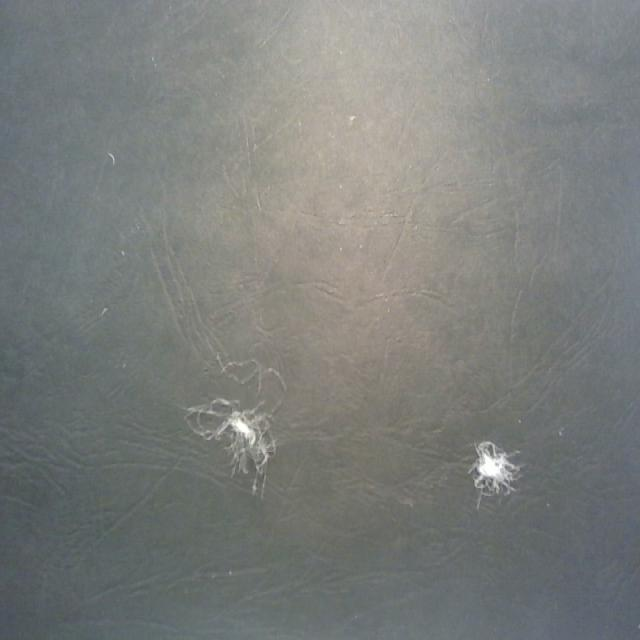feather: (179, 390, 278, 494), (471, 436, 519, 503)
